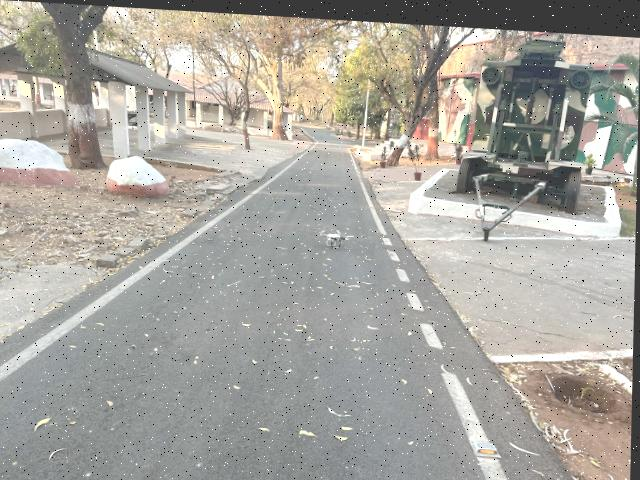drone: (310, 205, 362, 261)
